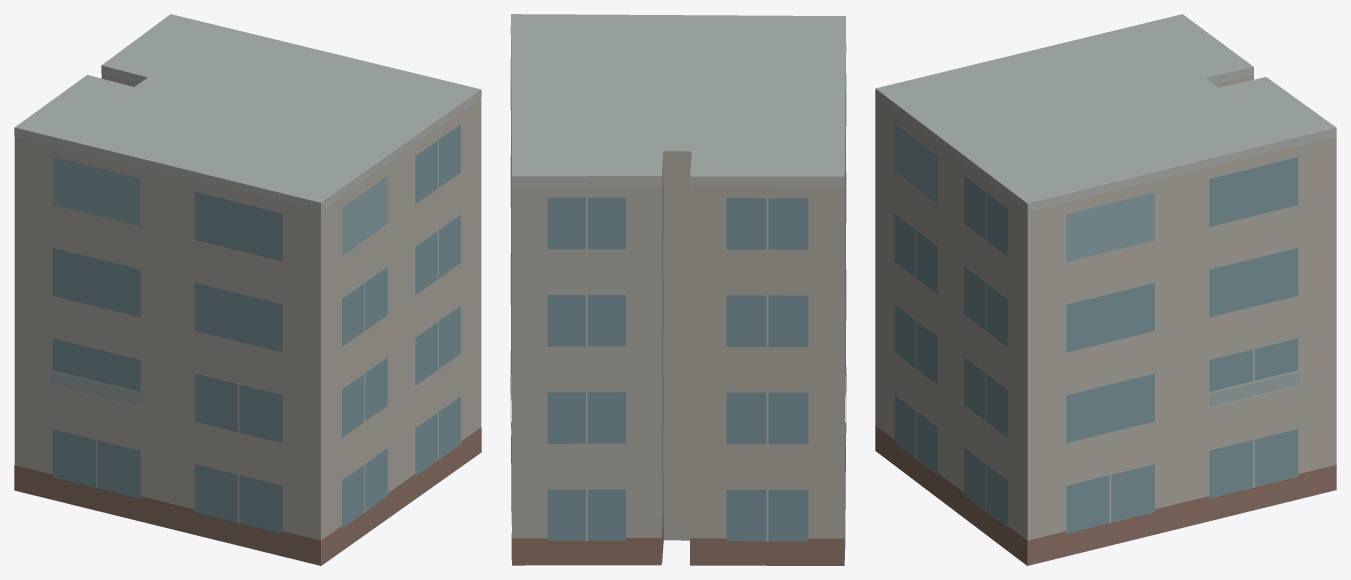
The model's file is survey-upis-32718383.glb.
3 renders of one model, left to right at view 1: azimuth 30°, elevation 25°; view 2: azimuth 150°, elevation 25°; view 3: azimuth 270°, elevation 25°, orthographic. The views are drawn at different scales.
Visible parts, largest first — view 1: survey-upis-32718383.tmp; view 2: survey-upis-32718383.tmp; view 3: survey-upis-32718383.tmp.
Boxes of the visible parts, x1=… form: survey-upis-32718383.tmp: x1=14, y1=14, x2=481, y2=565; survey-upis-32718383.tmp: x1=510, y1=14, x2=846, y2=565; survey-upis-32718383.tmp: x1=875, y1=14, x2=1336, y2=565.
Size of the model in its own units: 12.01 by 10.7 by 12.36.
